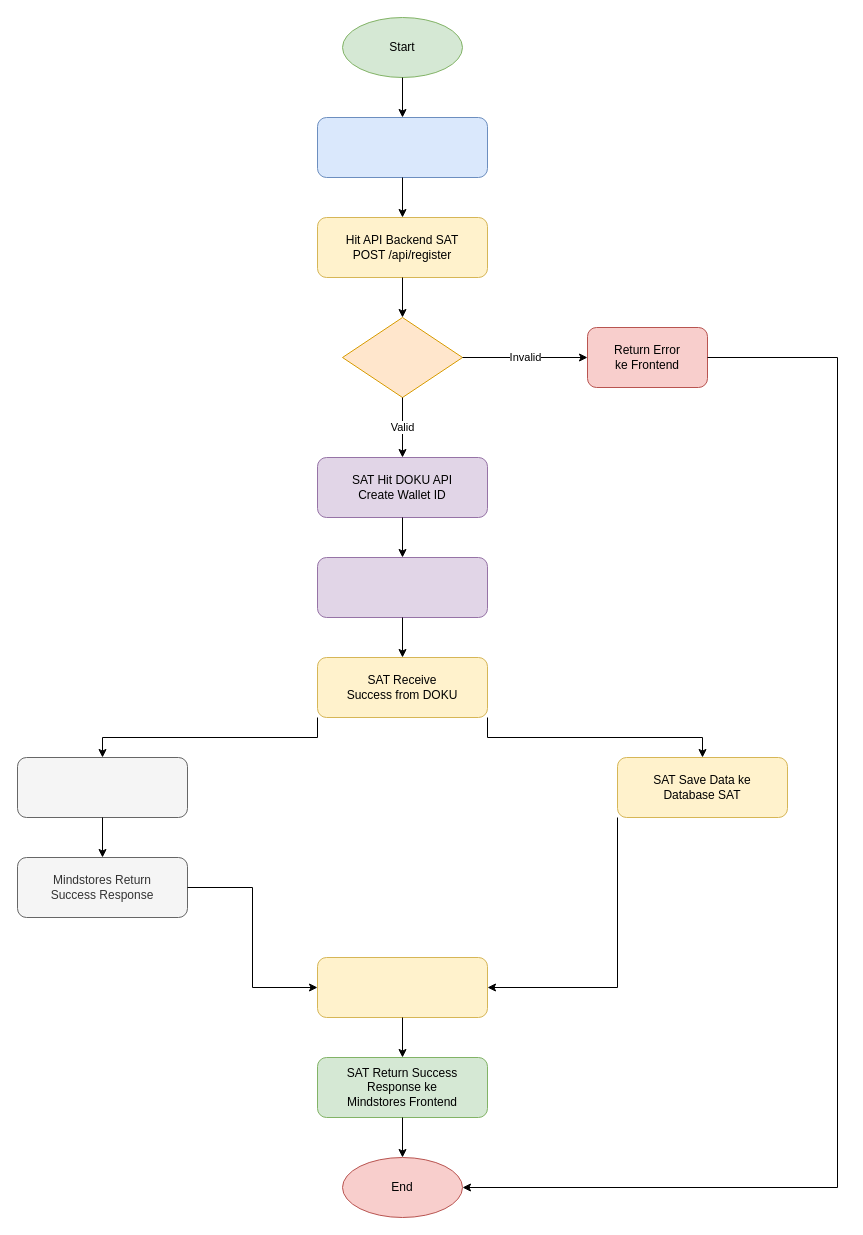
This 863x1235 diagram has some shape labels left out. The shapes that lost their labels are listed below. From the top down, each one's box as (x1, y1, x2, y2) in pixels, then its label:
(316, 116, 488, 178): User Input Data Registrasi (Mindstores Frontend)
(342, 316, 462, 398): Validasi Data
(316, 556, 488, 618): DOKU Return Wallet ID
(16, 756, 188, 818): SAT Hit API Backend Mindstores POST /api/user
(316, 956, 488, 1018): SAT Receive Success from Mindstores
